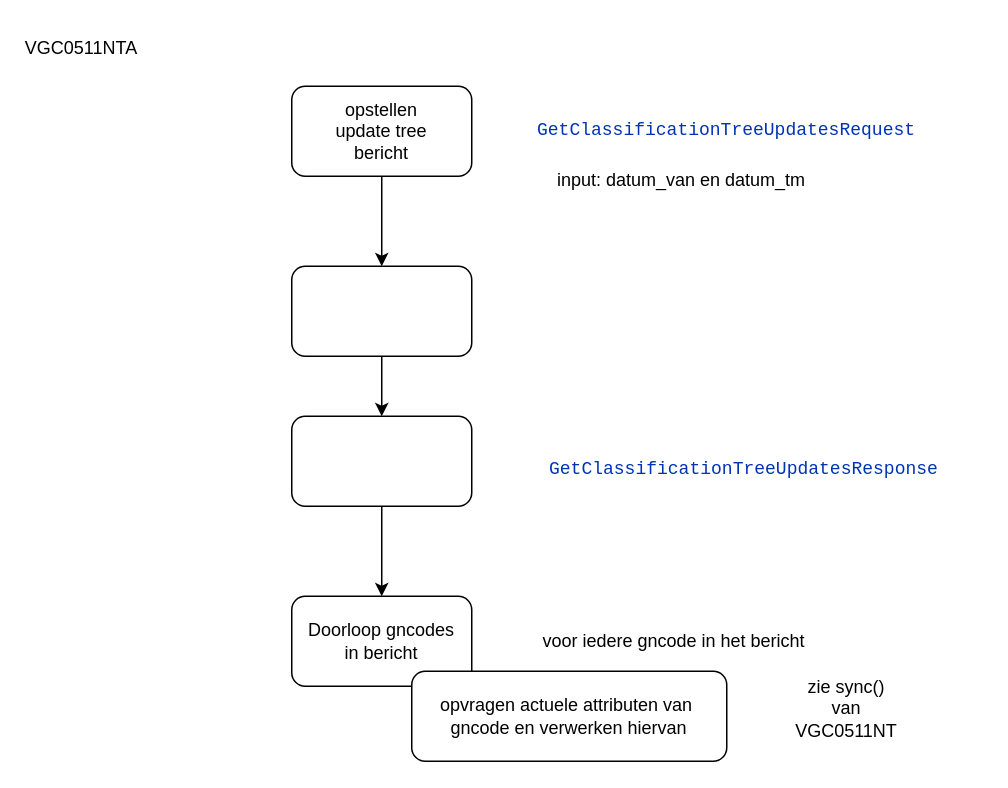
This 1008x788 diagram has some shape labels left out. The shapes that lost their labels are listed below. From the top down, each one's box as (x1, y1, x2, y2) in pixels, then its label:
(290, 265, 472, 356): opvragen update tree bericht
(290, 415, 472, 506): ontvangen update tree bericht
